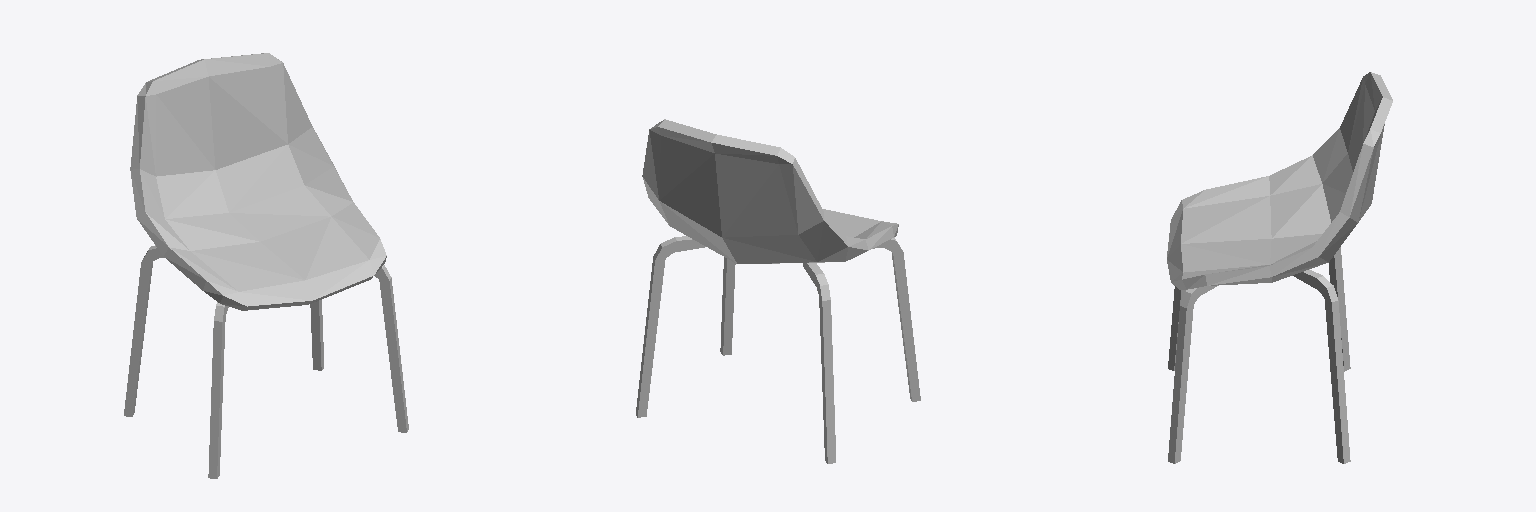
The model's file is kitchen_chair_001.obj.
3 views of the same model, side by side, from view 1: azimuth 30°, elevation 25°; view 2: azimuth 150°, elevation 25°; view 3: azimuth 270°, elevation 25° (orthographic).
Parts seen in each view (by area): view 1: kitchen_chair_001; view 2: kitchen_chair_001; view 3: kitchen_chair_001.
Boxes of the visible parts, box(x1,y1,x2,y2) form: kitchen_chair_001: box(124, 53, 408, 478); kitchen_chair_001: box(636, 119, 920, 463); kitchen_chair_001: box(1167, 72, 1392, 463).
Size of the model in its own units: 0.5459 by 0.8273 by 0.5338.